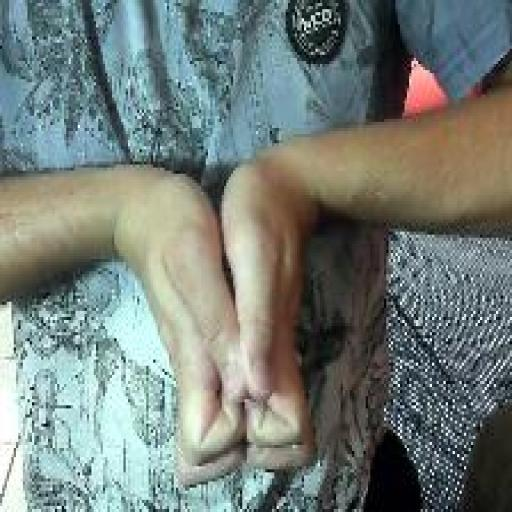I -boar-: (135, 149, 320, 494)
